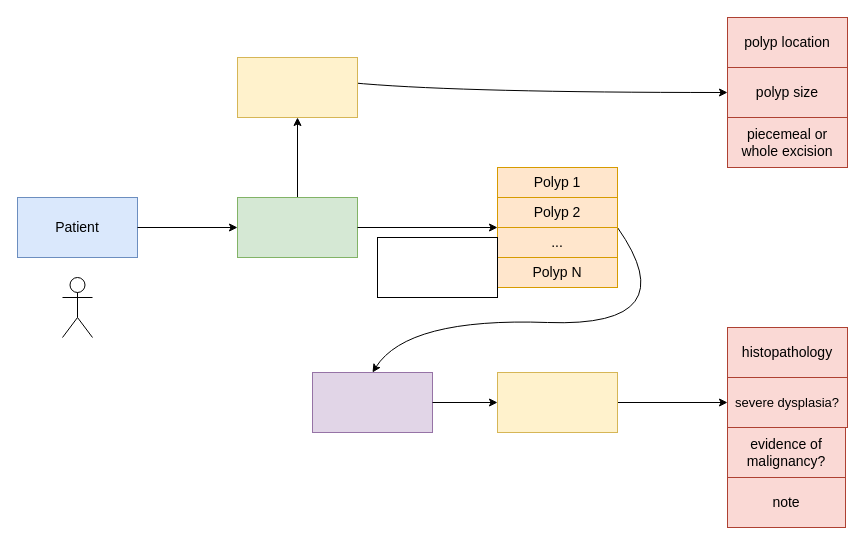
Some shapes in this 865 by 545 pixel diagram are drawn without their labels. Here are the shapes that lost their labels. From the top down, the centre of each, then its label:
[297,87]: Procedure Report
[297,227]: Colonoscopy Procedure
[372,402]: Specimens to Pathology Lab
[557,402]: Pathology Report
